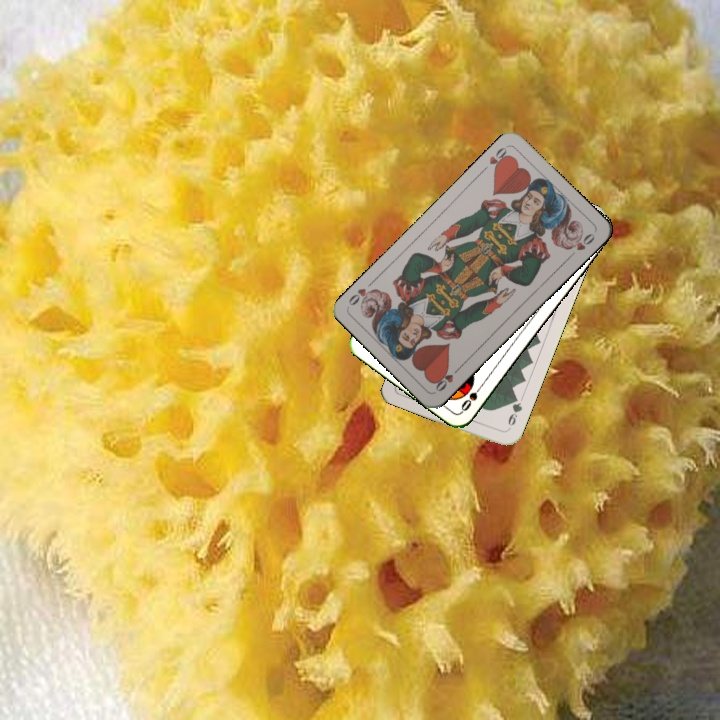G9: (503, 392, 525, 433)
HO: (478, 143, 513, 175), (430, 362, 463, 394)
SO: (457, 379, 487, 414)
